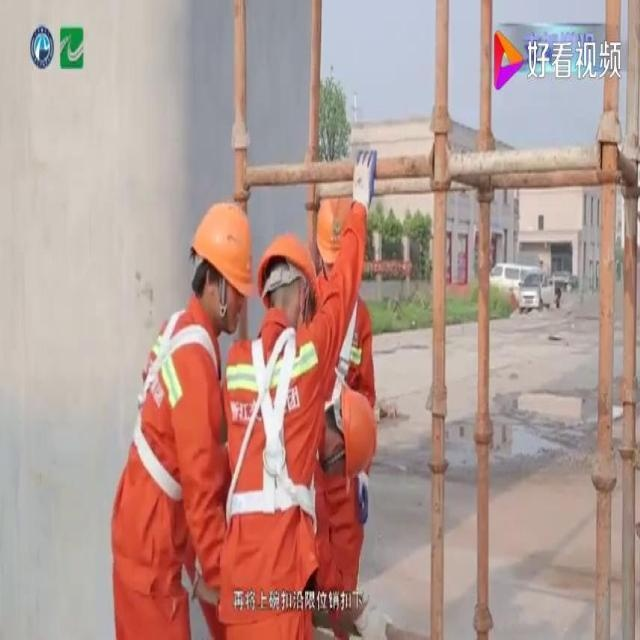Arnes_seguridad: (223, 324, 323, 532), (127, 299, 221, 511)
